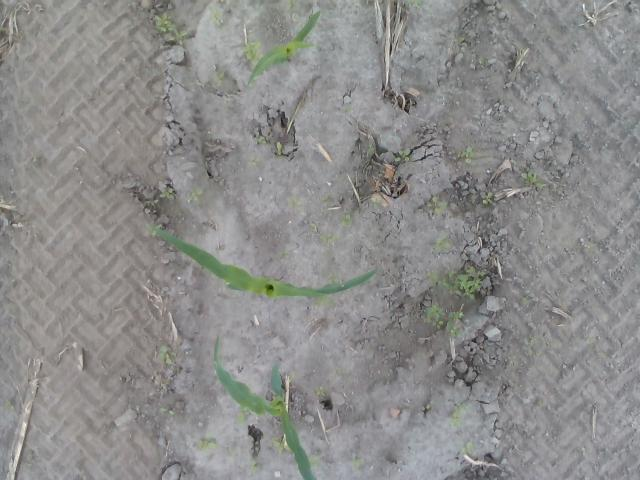Maize: (150, 222, 375, 300), (212, 333, 320, 480), (248, 11, 320, 89)
Weeds: (426, 263, 484, 304), (419, 300, 464, 338), (153, 12, 190, 44), (447, 398, 467, 427), (426, 196, 448, 215), (521, 172, 544, 188), (157, 345, 175, 365), (243, 40, 259, 61), (188, 186, 205, 204), (272, 434, 286, 453), (194, 438, 216, 450), (158, 188, 175, 202), (211, 7, 223, 26), (212, 70, 224, 88), (436, 238, 454, 250), (394, 148, 409, 162), (481, 191, 494, 206), (464, 146, 474, 165), (246, 462, 259, 476), (274, 140, 284, 158), (318, 234, 338, 243), (404, 0, 426, 8), (3, 399, 16, 412), (308, 454, 321, 466), (352, 454, 364, 466), (341, 214, 353, 226), (462, 442, 473, 455), (288, 199, 302, 209), (160, 406, 174, 416), (317, 387, 326, 401), (520, 295, 530, 306), (234, 415, 244, 425), (456, 36, 466, 44)
